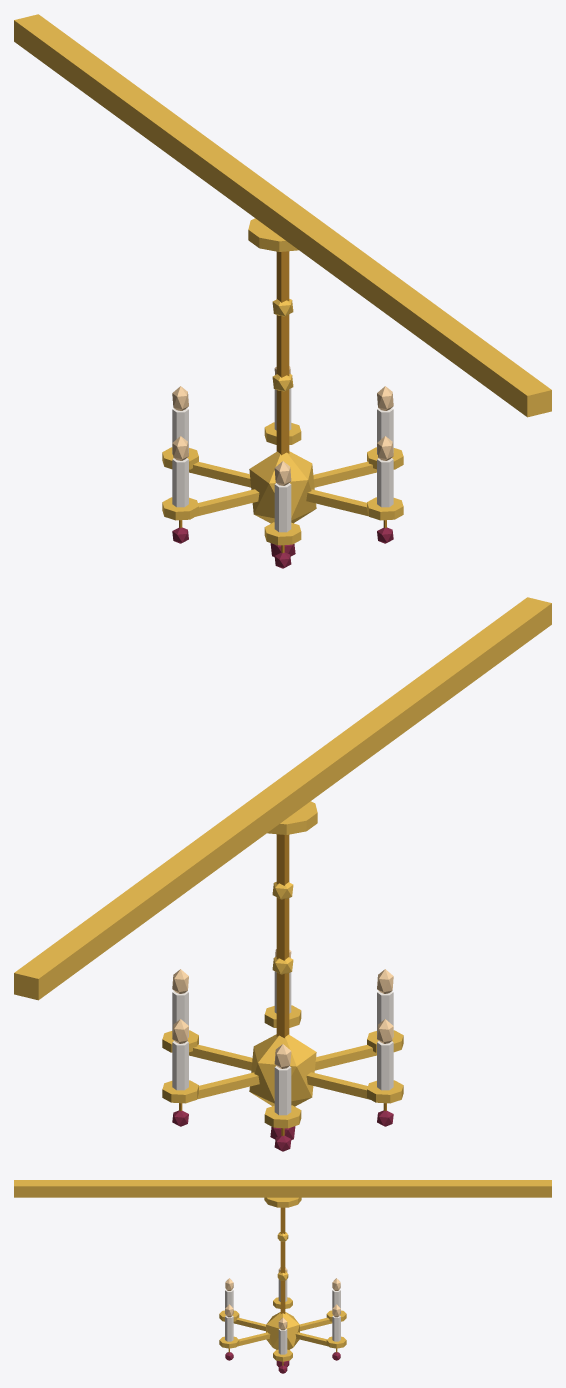
The model's file is CatCafe_Plot_ThemeGrandChandelier_48x37.glb.
The picture shows the model from 3 angles, top to bottom: view 1: azimuth 30°, elevation 25°; view 2: azimuth 150°, elevation 25°; view 3: azimuth 270°, elevation 25°; orthographic projection. The views are drawn at different scales.
Visible parts, largest first — view 1: CatCafe_Plot_ThemeGrandChandelier_48x37, CatCafe_Plot_ThemeGrandChandelier_48x37_Glow; view 2: CatCafe_Plot_ThemeGrandChandelier_48x37, CatCafe_Plot_ThemeGrandChandelier_48x37_Glow; view 3: CatCafe_Plot_ThemeGrandChandelier_48x37, CatCafe_Plot_ThemeGrandChandelier_48x37_Glow.
Boxes of the visible parts, bbox=[...] form: CatCafe_Plot_ThemeGrandChandelier_48x37: bbox=[14, 14, 551, 568]; CatCafe_Plot_ThemeGrandChandelier_48x37_Glow: bbox=[172, 366, 393, 485]; CatCafe_Plot_ThemeGrandChandelier_48x37: bbox=[14, 597, 551, 1151]; CatCafe_Plot_ThemeGrandChandelier_48x37_Glow: bbox=[172, 949, 393, 1068]; CatCafe_Plot_ThemeGrandChandelier_48x37: bbox=[14, 1180, 551, 1373]; CatCafe_Plot_ThemeGrandChandelier_48x37_Glow: bbox=[225, 1267, 340, 1330].
Size of the model in its own units: 2.32 by 3.32 by 8.69.
Materials: 1 (1 with a texture image).
